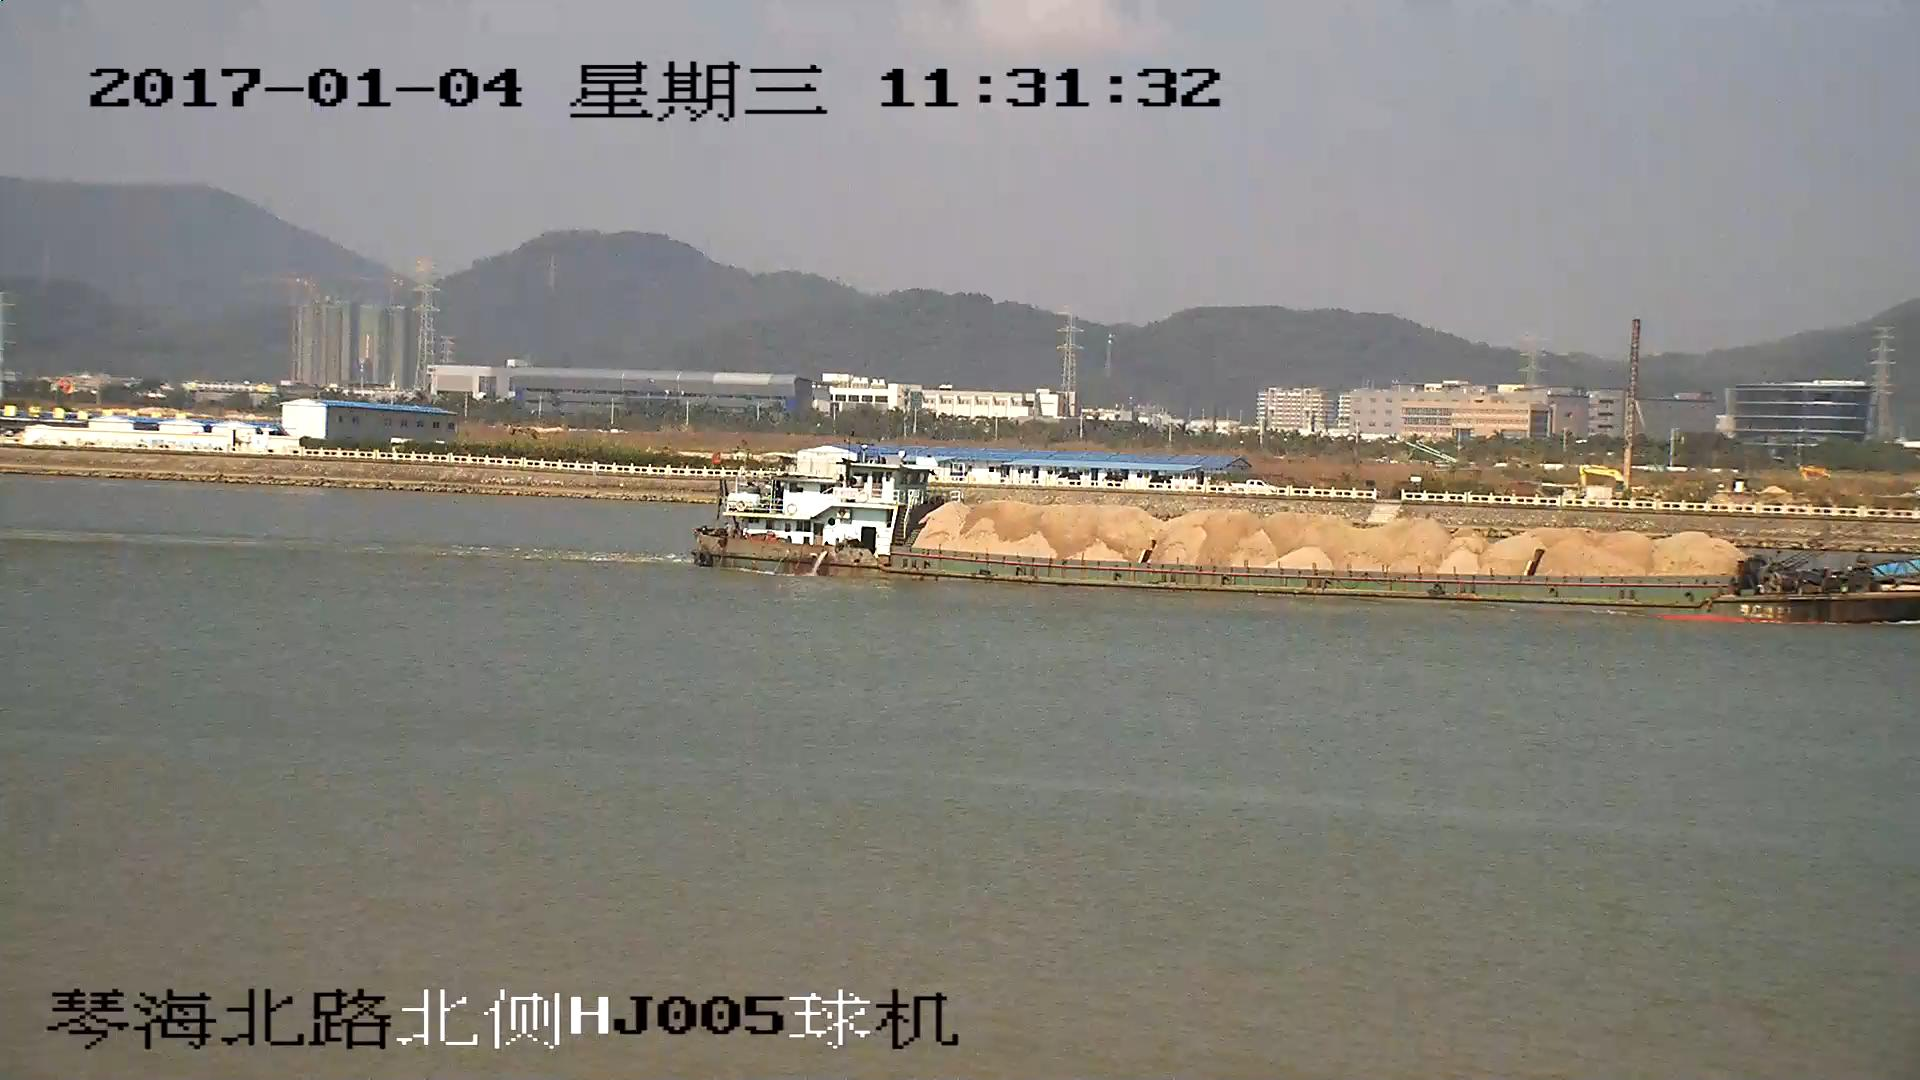ore carrier: (689, 454, 1920, 625)
